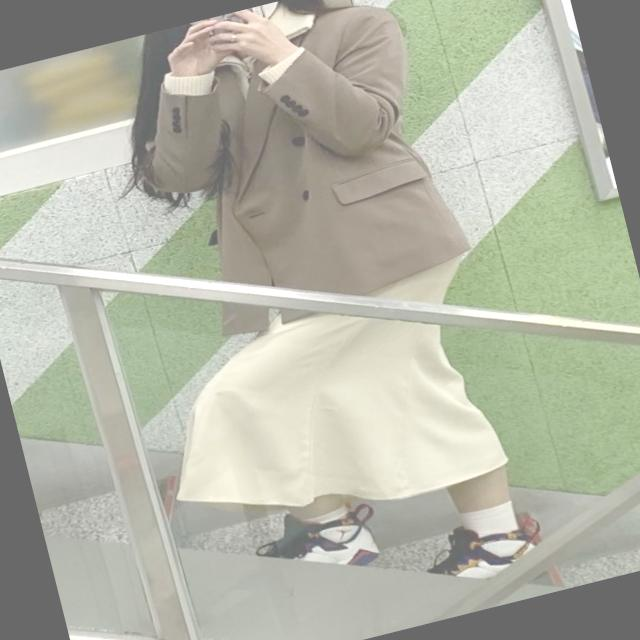blazer: (114, 0, 479, 344)
skirt: (128, 222, 530, 552)
